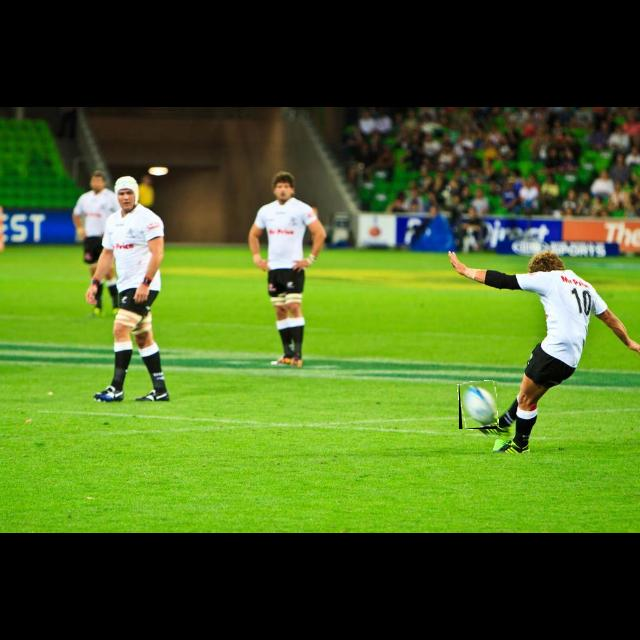Football: (459, 381, 497, 429)
